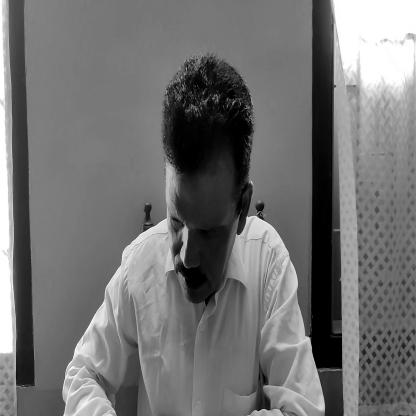Distracted: (165, 53, 256, 312)
